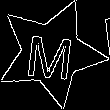M_N: (25, 26, 78, 80)
